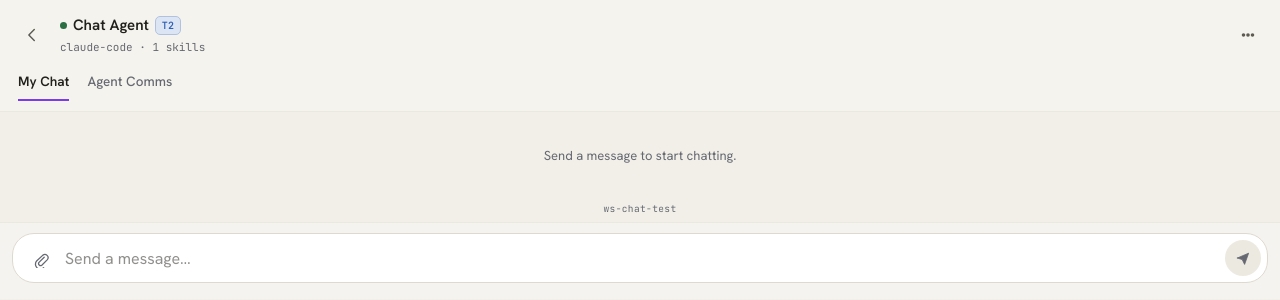
Test case: MobileChat — Agent Comms render parity (#231) › mounts AgentCommsPanel on the Agent Comms tab (not the old placeholder)
The width and height of the screenshot is (1280, 300).
Click the button "Agent Comms".
click(130, 84)  # box [88,67,172,101]
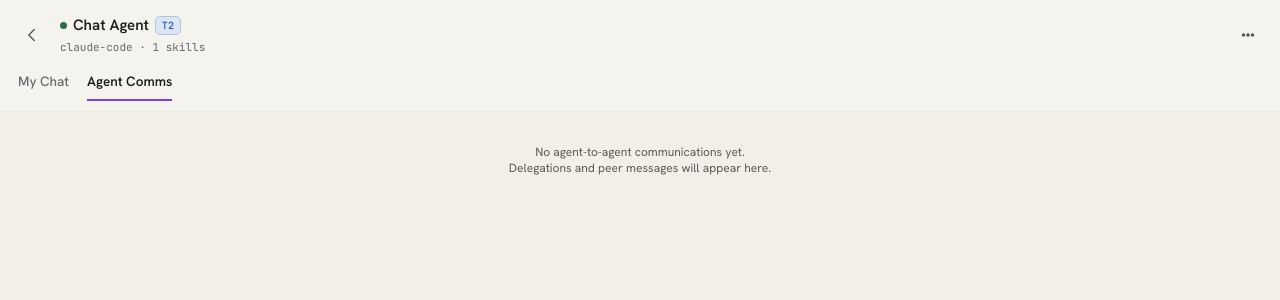
Result: the text "No agent-to-agent communications yet." is shown at [535,144,745,160]
